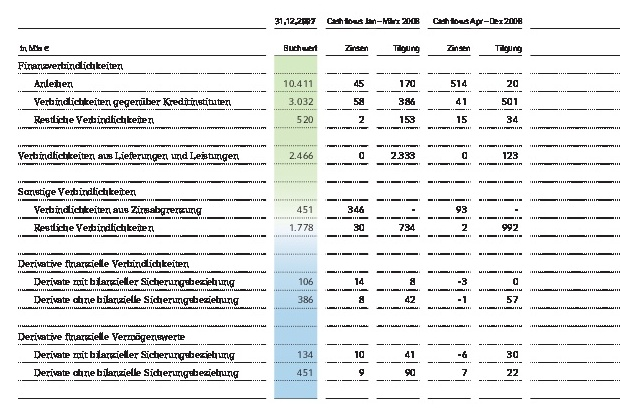table: (0, 0, 620, 420)
